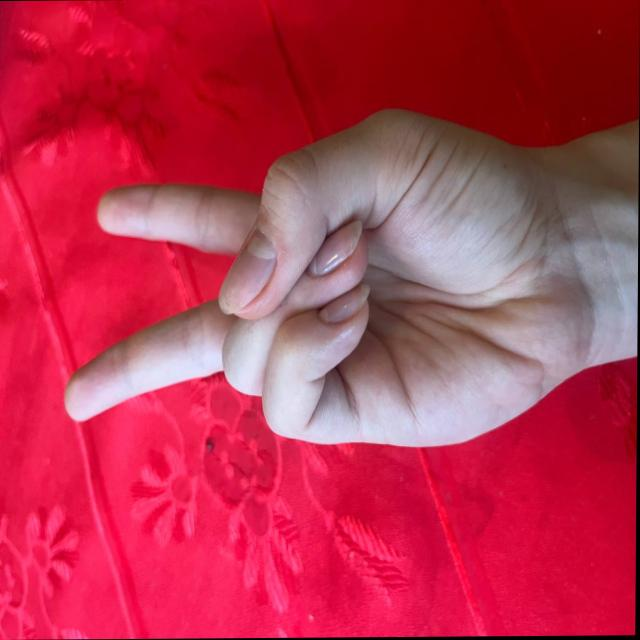k: (31, 119, 489, 502)
